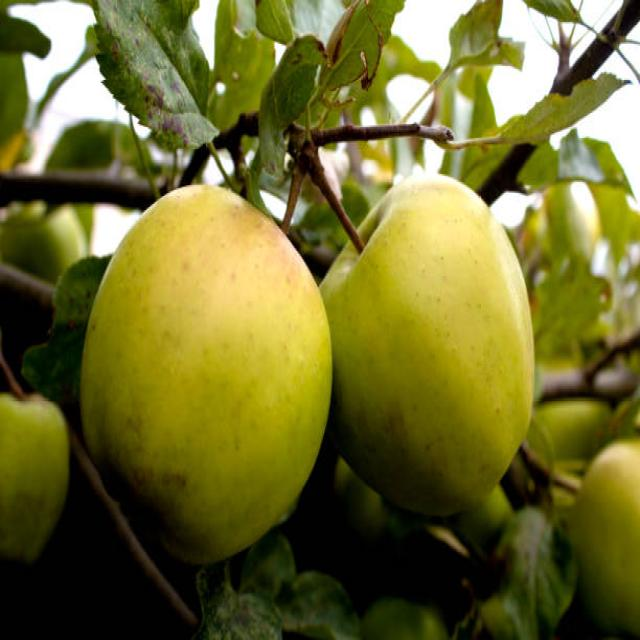Unripe: (79, 184, 332, 570), (319, 172, 536, 521)
